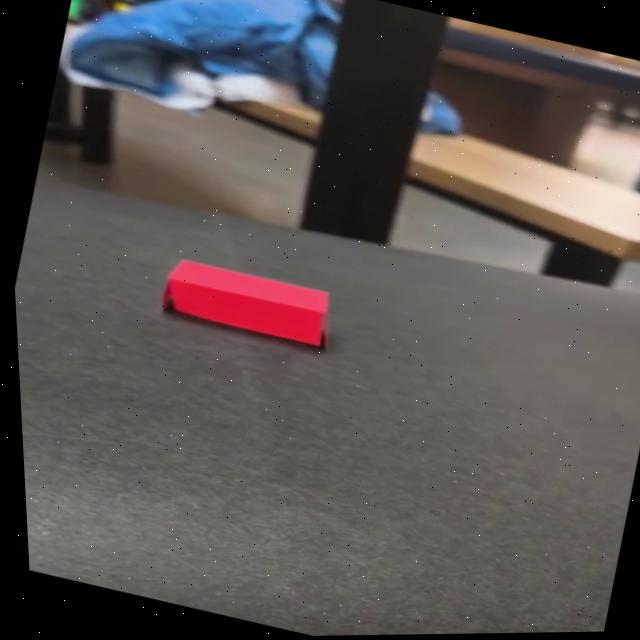red block: (155, 250, 338, 351)
